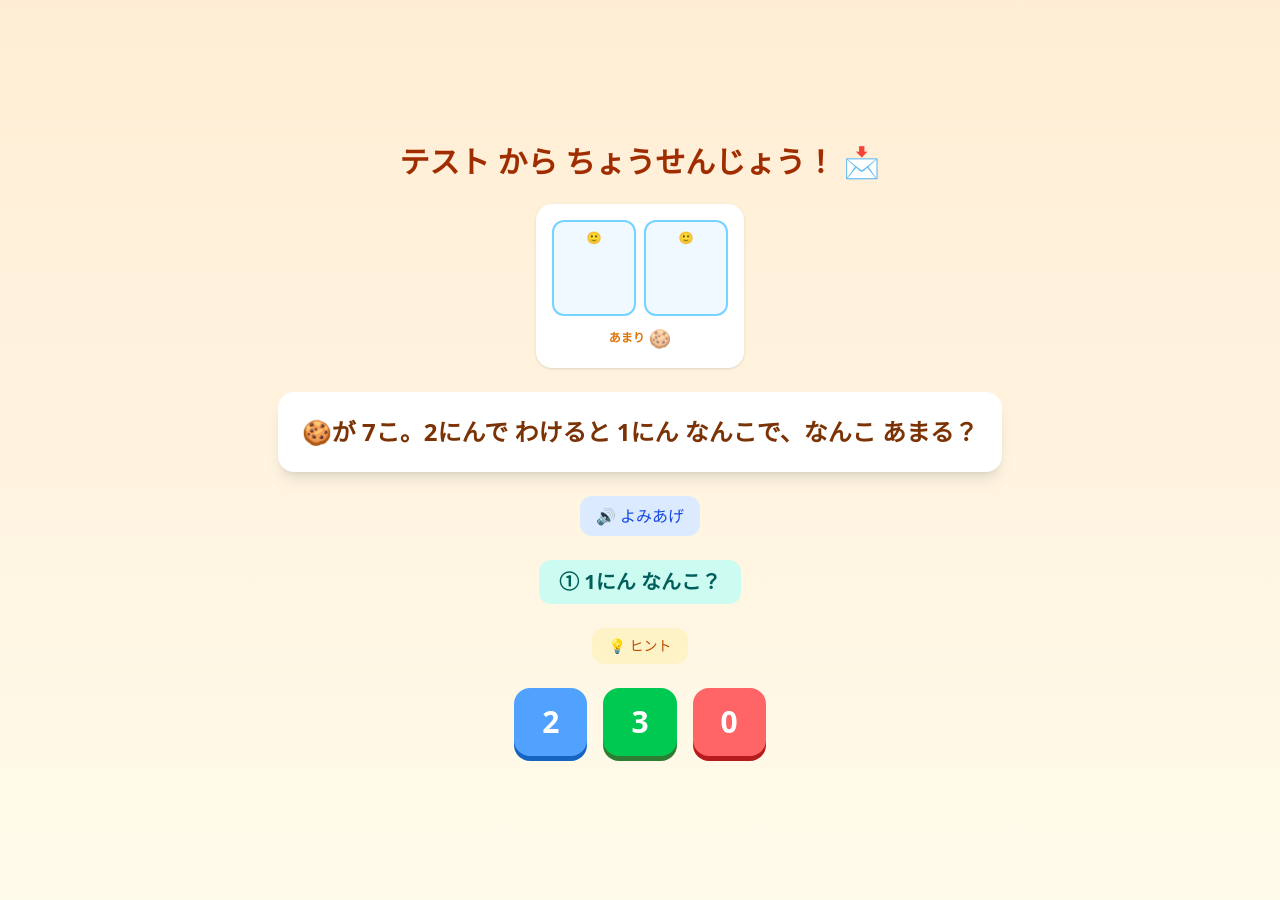
Test: ParentSolveScreen › あまりのある わり算は 1人分→あまり の2段階で 両方 正解して せいかい
The width and height of the screenshot is (1280, 900).
Expected: the text "① 1にん なんこ？" is shown, x1=539 y1=560 x2=741 y2=604
What coordinates should you click on to do the following:
click the button "3"
I would click on:
 (640, 722)
Its box is x1=603 y1=688 x2=677 y2=756.
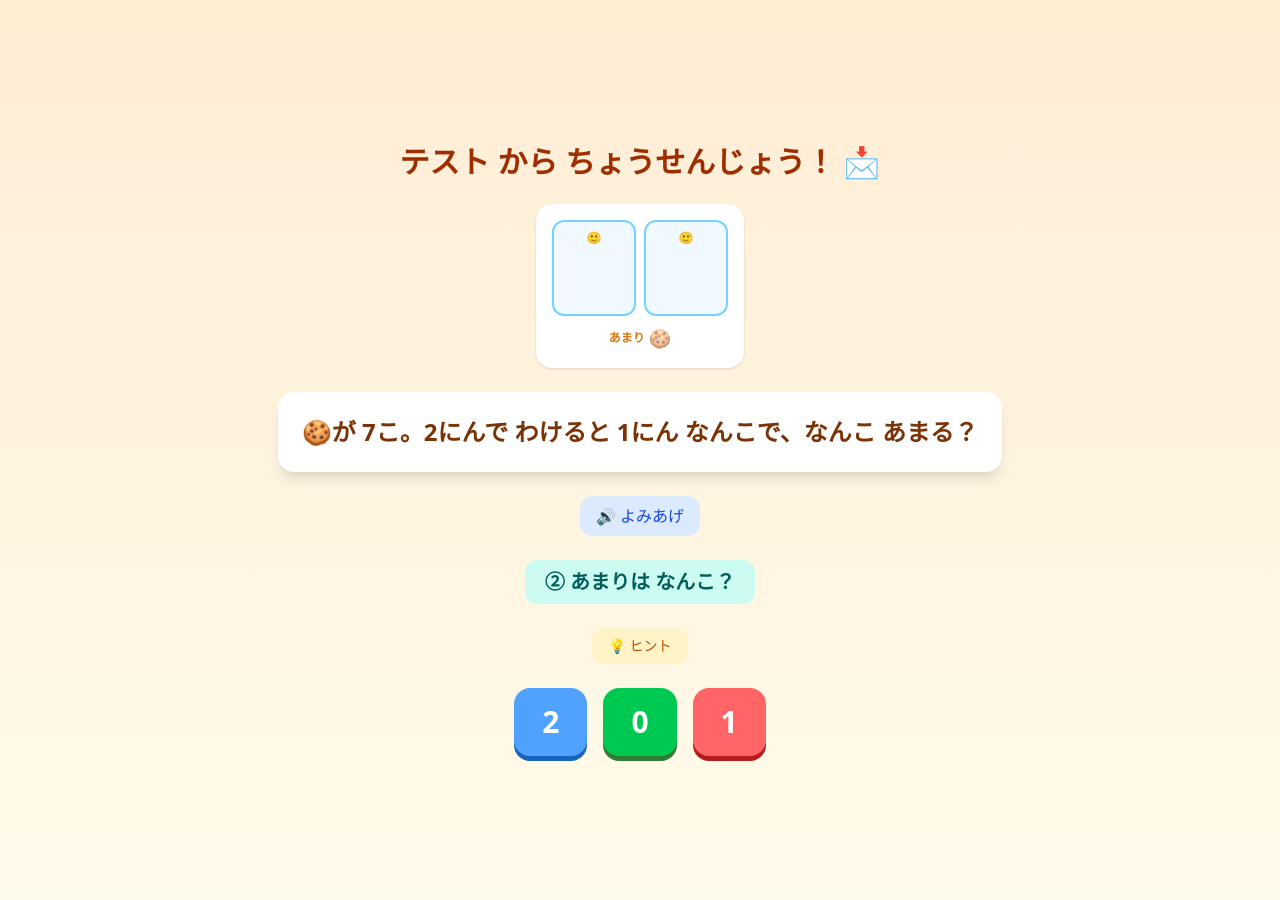
Expected: the text "せいかい！" is not shown
Expected: the text "② あまりは なんこ？" is shown, x1=525 y1=560 x2=755 y2=604
# ② あまり 1こ
What coordinates should you click on to do the following:
click the button "1"
I would click on:
 (729, 722)
Its box is x1=693 y1=688 x2=766 y2=756.
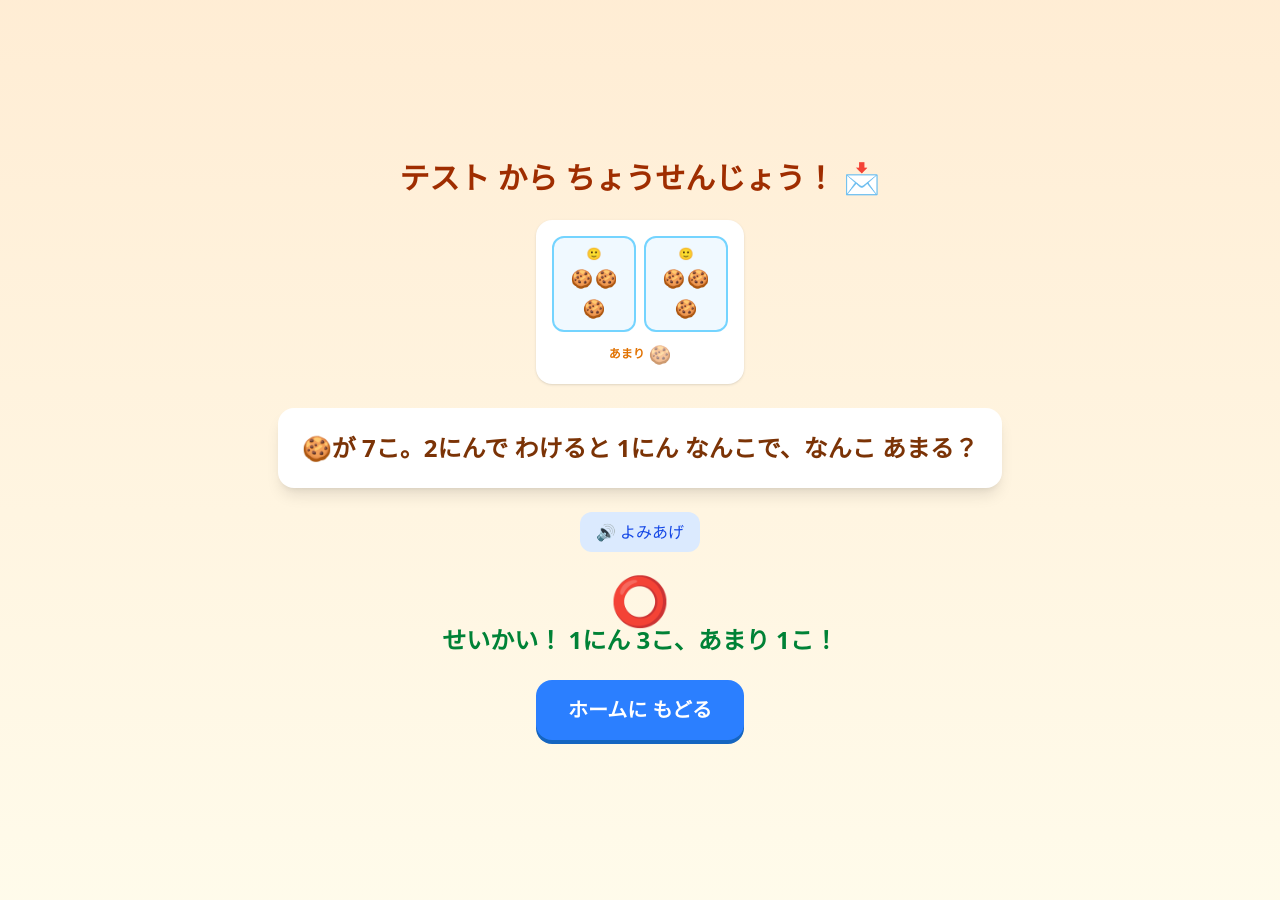
Expected: the text "せいかい！ 1にん 3こ、あまり 1こ！" is shown, x1=442 y1=624 x2=838 y2=656
